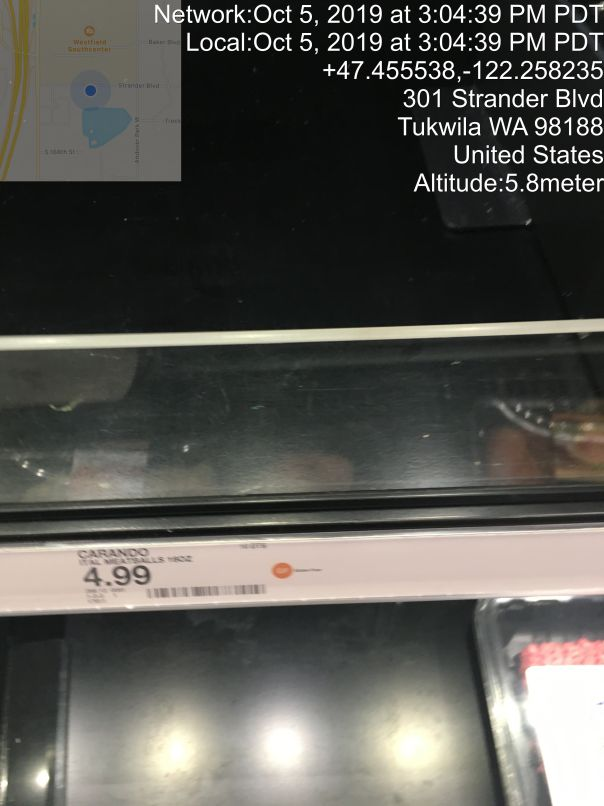Label: (66, 536, 291, 615)
Location: (389, 86, 604, 166)
Time: (151, 1, 604, 52)
Void: (17, 65, 421, 462)
